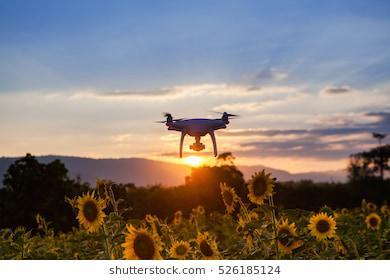drone: (126, 88, 272, 171)
